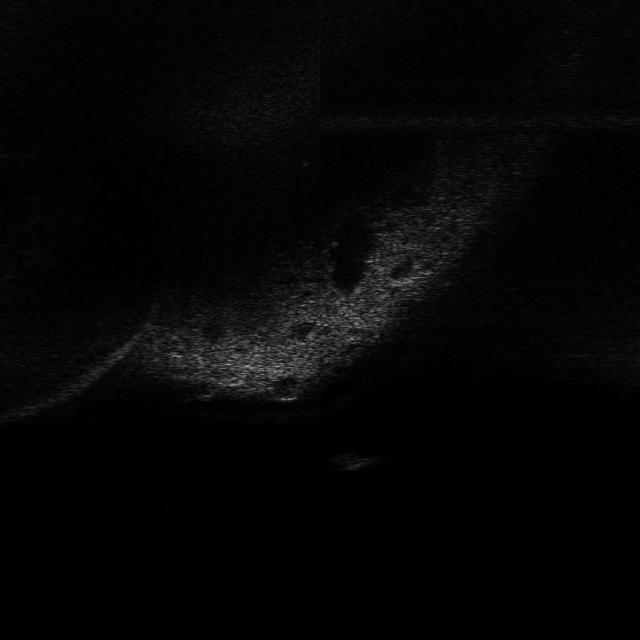cube: (324, 448, 386, 474)
